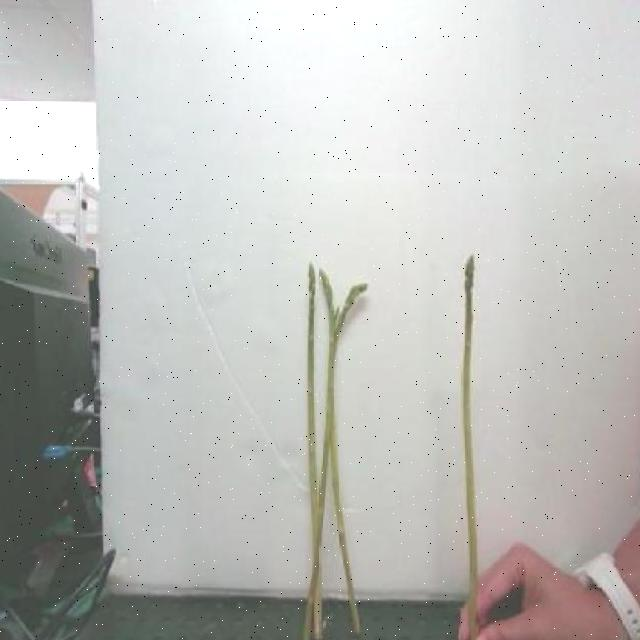aspargus: (305, 283, 368, 640), (461, 257, 479, 636)
